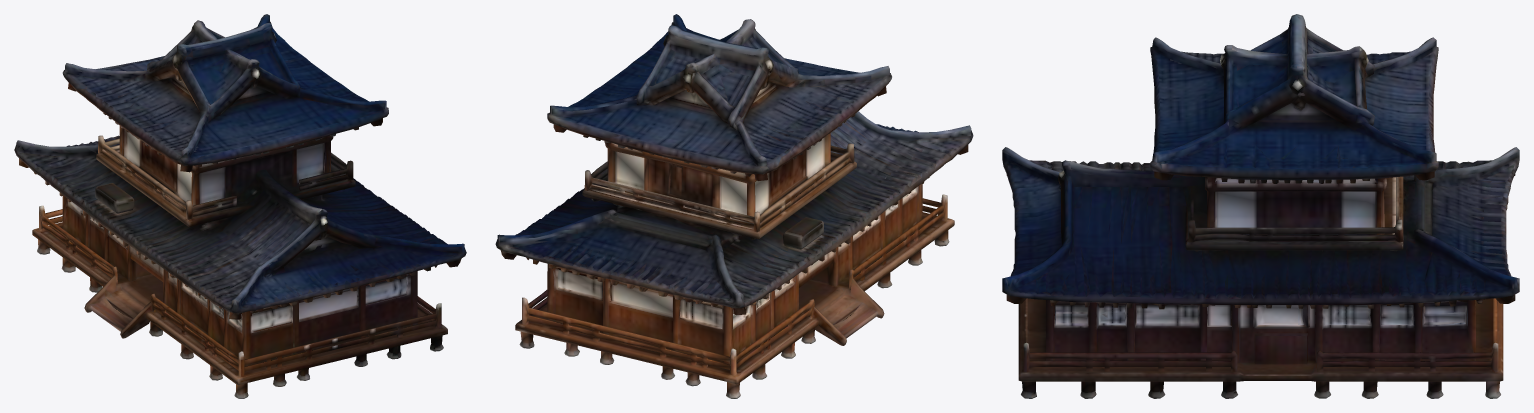
The model's file is japanese-house.glb.
3 renders of one model, left to right at view 1: azimuth 30°, elevation 25°; view 2: azimuth 150°, elevation 25°; view 3: azimuth 270°, elevation 25°, orthographic. The views are drawn at different scales.
Visible parts, largest first — view 1: tripo_node_c43941f4-789d-4f2a-9a4e-01434f86ec6e; view 2: tripo_node_c43941f4-789d-4f2a-9a4e-01434f86ec6e; view 3: tripo_node_c43941f4-789d-4f2a-9a4e-01434f86ec6e.
Boxes of the visible parts, left/top/right/bottom form: tripo_node_c43941f4-789d-4f2a-9a4e-01434f86ec6e: left=14, top=14, right=466, bottom=398; tripo_node_c43941f4-789d-4f2a-9a4e-01434f86ec6e: left=495, top=14, right=973, bottom=398; tripo_node_c43941f4-789d-4f2a-9a4e-01434f86ec6e: left=1002, top=14, right=1519, bottom=398.
Bounding box in the file's own units: 0.6504 × 0.6387 × 0.998.
1 material, 1 textured.
